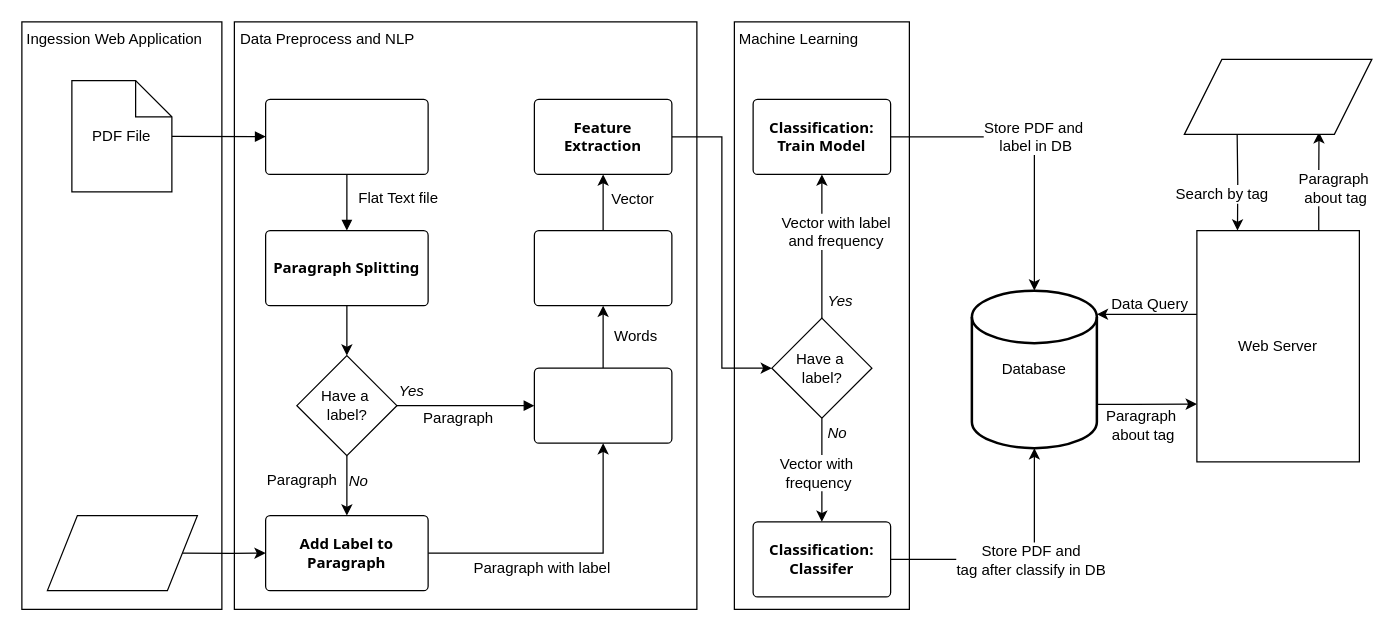
Image size: 1394x631. Some labels were removed from this diagram. Here are the shapes that lost their labels. From the top down, the box of each, then its label:
(1183, 58, 1372, 134): Show result in Web Application
(264, 98, 428, 174): Convert PDF to text
(533, 229, 672, 306): Convert Word to Vector (Bag of Word)
(533, 367, 672, 443): Word Segmentation
(46, 514, 197, 591): Label in the Paragraph from Expert
